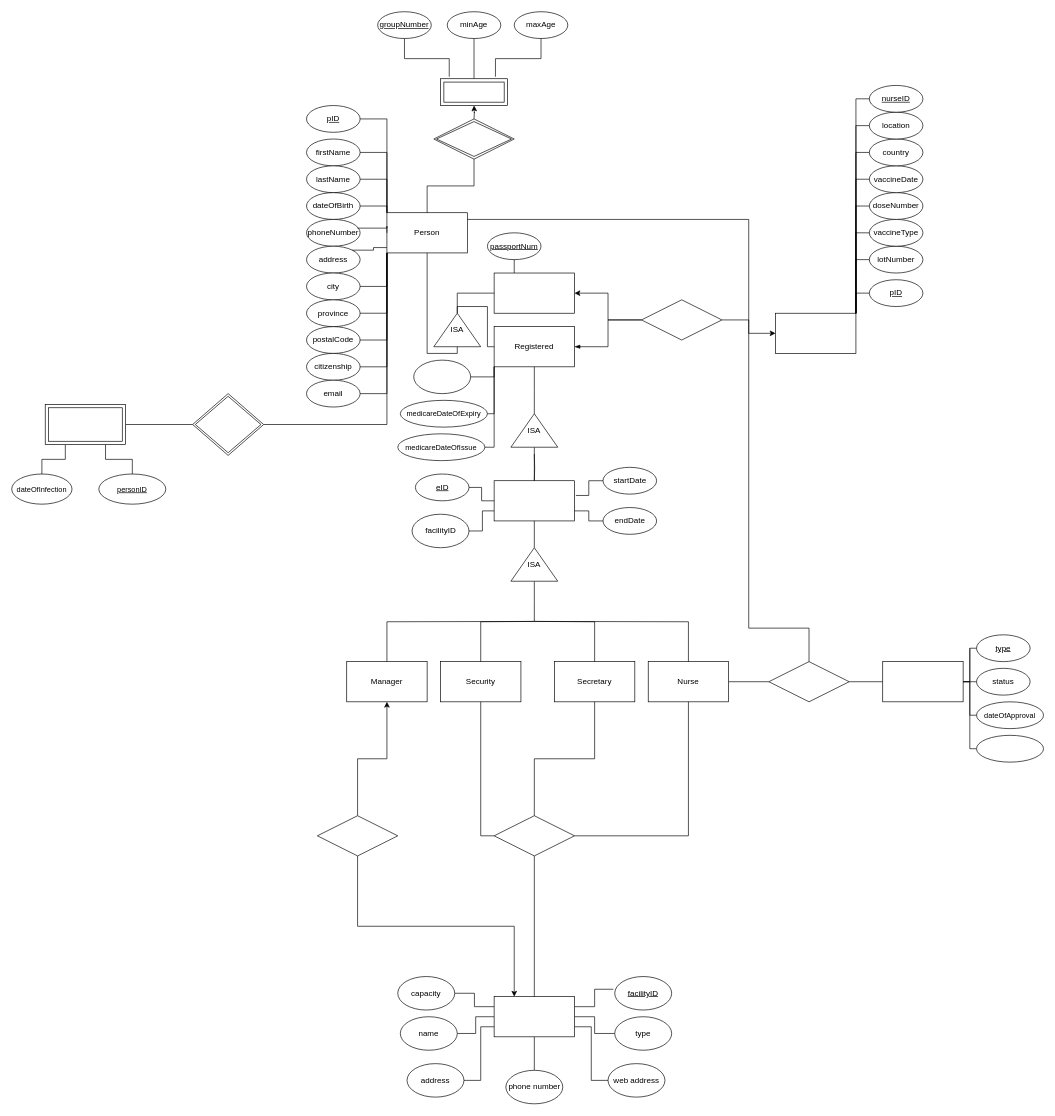
Some shapes in this 1055 by 1116 pixel diagram are drawn without their labels. Here are the shapes that lost their labels. From the top down, the box of each, then its label:
(440, 78, 508, 106): Age Group
(433, 118, 514, 159): AgeBelonging
(493, 272, 575, 313): Unregistered
(641, 299, 722, 340): hasBeenVaccinated
(775, 313, 856, 353): VaccineRecord
(413, 359, 471, 394): medicareNum
(45, 404, 126, 445): InfectionHistory
(192, 393, 264, 455): infectedBy
(493, 480, 575, 521): PublicHealthWorker
(768, 661, 849, 702): administers
(882, 661, 963, 702): Vaccine
(976, 735, 1044, 762): dateOfSuspension
(317, 815, 398, 856): manages
(493, 815, 575, 856): worksAt
(493, 996, 575, 1037): Vaccination Facility
